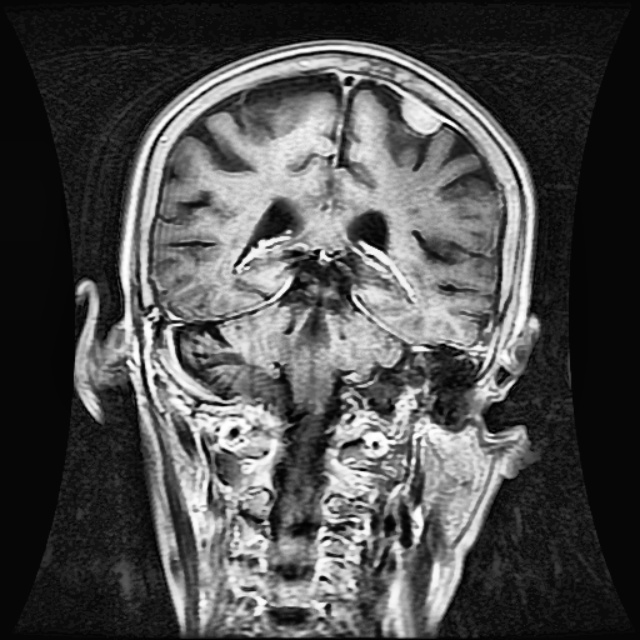Glioma: (402, 94, 442, 133)
